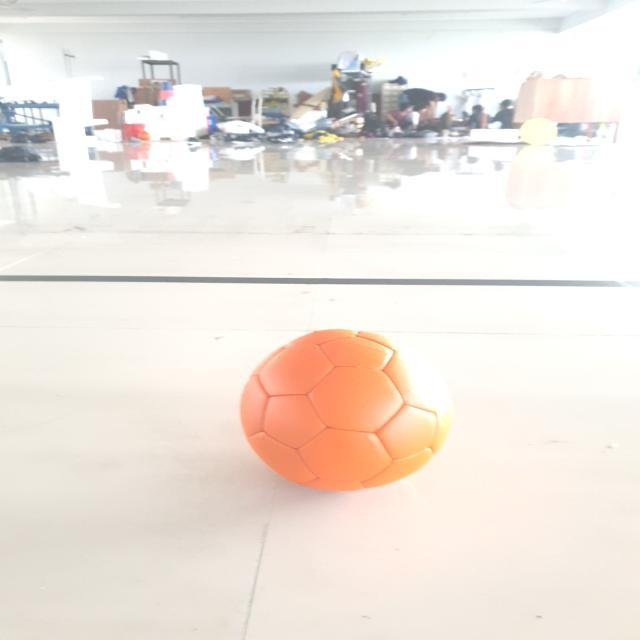bola: (222, 304, 481, 508)
